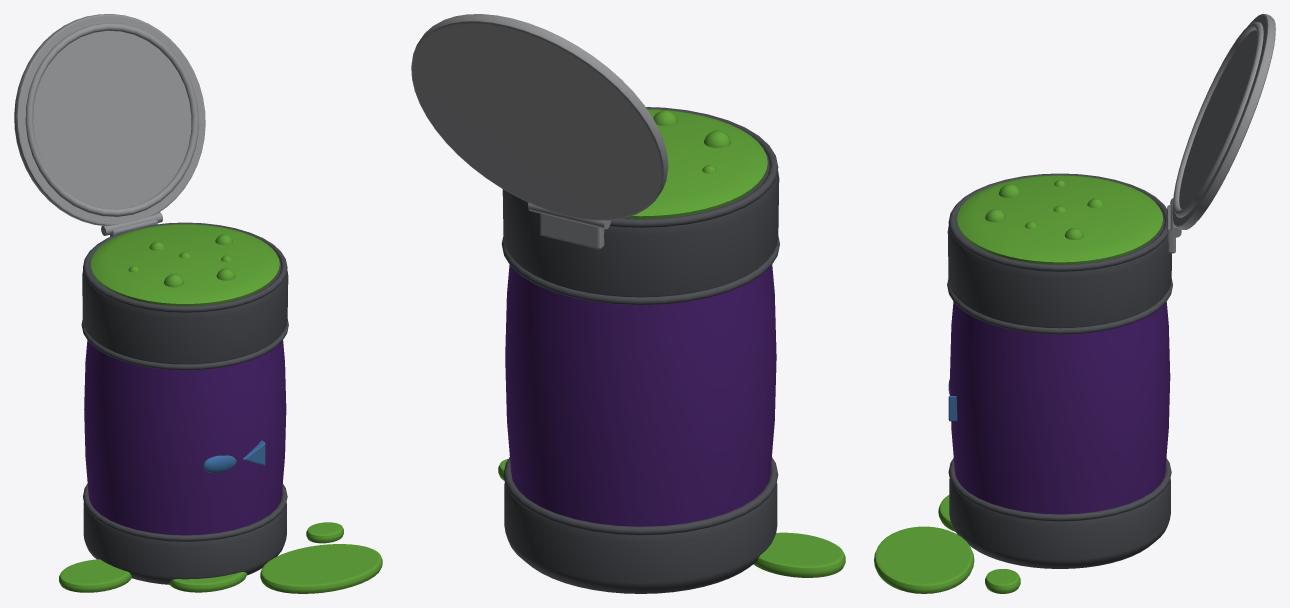
Rendered from gen_toxic_can_vertex.mobile-high.glb.
3 renders of one model, left to right at view 1: azimuth 30°, elevation 25°; view 2: azimuth 150°, elevation 25°; view 3: azimuth 270°, elevation 25°, orthographic. The views are drawn at different scales.
Visible parts, largest first — view 1: gen_toxic_can_vertex; view 2: gen_toxic_can_vertex; view 3: gen_toxic_can_vertex.
Part boxes in pixels (box(x1,y1,x2,y2)): gen_toxic_can_vertex: box(14, 14, 382, 593); gen_toxic_can_vertex: box(411, 14, 845, 593); gen_toxic_can_vertex: box(874, 14, 1275, 593).
Size of the model in its own units: 0.47 by 0.772 by 0.5616.
